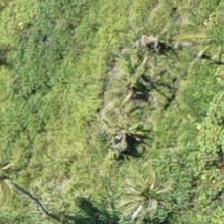coconut_tree: (97, 148, 187, 223)
